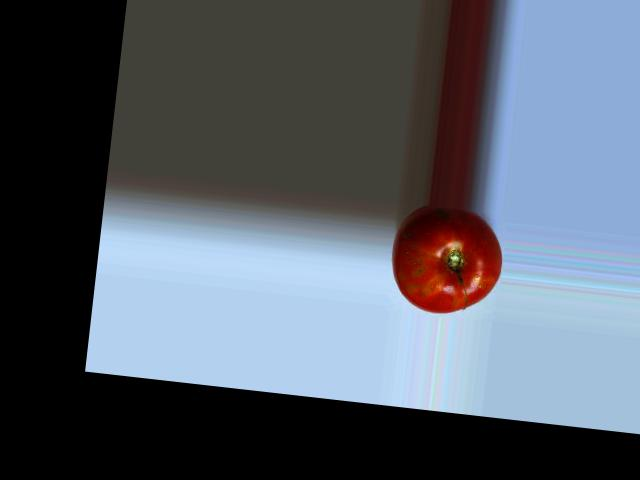tomato: (386, 201, 507, 319)
